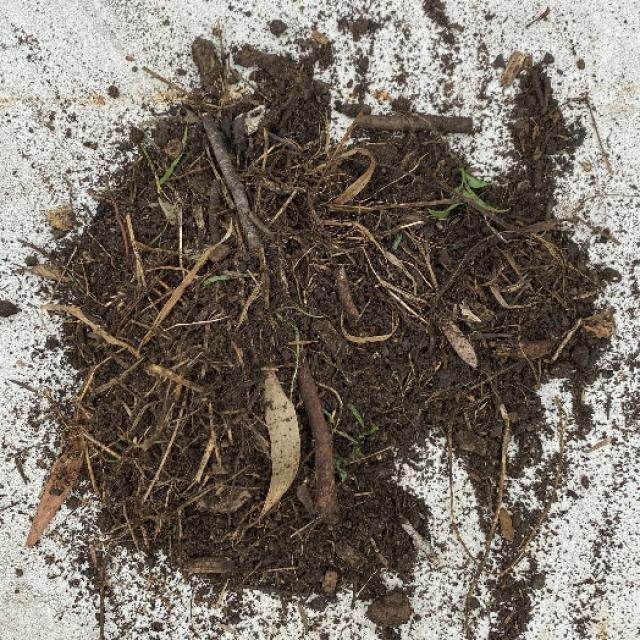organic: (28, 232, 224, 546), (194, 111, 333, 525), (342, 66, 594, 240), (450, 392, 564, 616), (336, 260, 395, 343)
